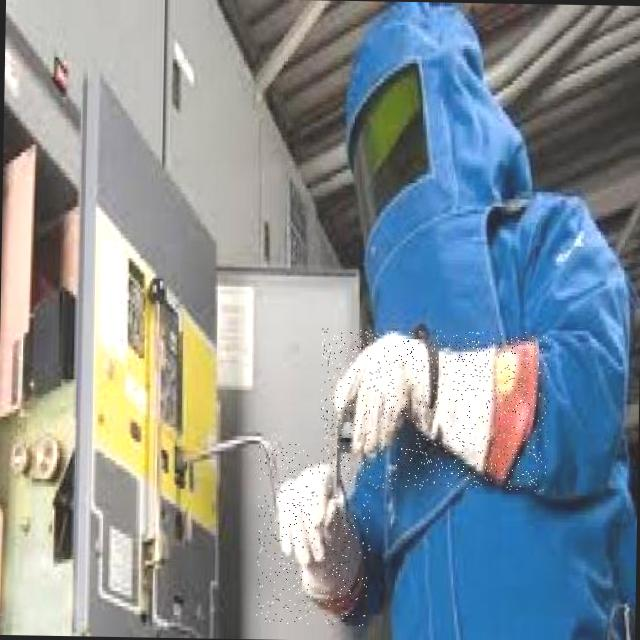gloves: (330, 323, 548, 476), (276, 459, 368, 612)
